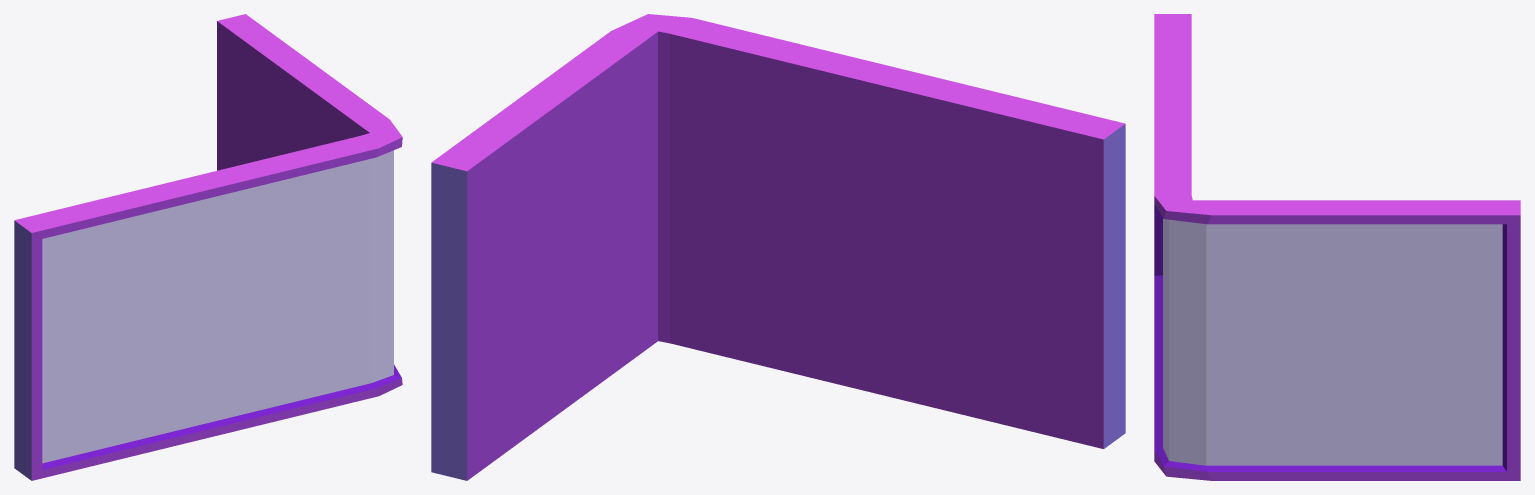
File: 3d_billboard_13x8x10.fbx
3 views of the same model, side by side, from view 1: azimuth 30°, elevation 25°; view 2: azimuth 150°, elevation 25°; view 3: azimuth 270°, elevation 25° (orthographic). The views are drawn at different scales.
Parts seen in each view (by area): view 1: GEO_Billboard_13x8x10; view 2: GEO_Billboard_13x8x10; view 3: GEO_Billboard_13x8x10.
Part boxes in pixels (left/top/right/bottom): GEO_Billboard_13x8x10: left=14, top=14, right=402, bottom=480; GEO_Billboard_13x8x10: left=431, top=14, right=1125, bottom=480; GEO_Billboard_13x8x10: left=1154, top=14, right=1520, bottom=480.
Size of the model in its own units: 13 by 10 by 8.
